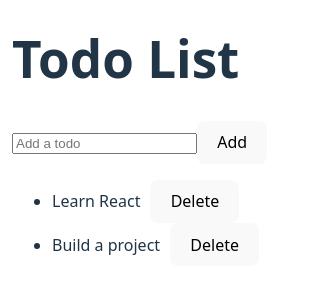
TodoList component › adds a new todo
The image size is (332, 294).
In the field with placeholder "Add a todo": (104, 144) [12,133,197,154], type "New Todo"
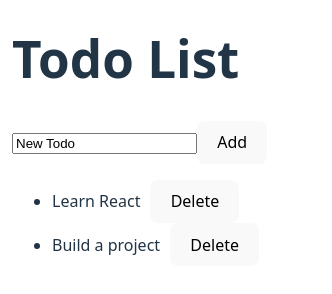
Click the button "Add": (232, 142) [197,121,267,164]
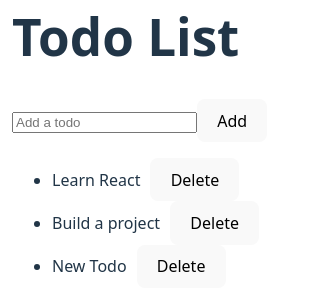
Check: the text "New Todo" is shown, box [52,255,127,277]
